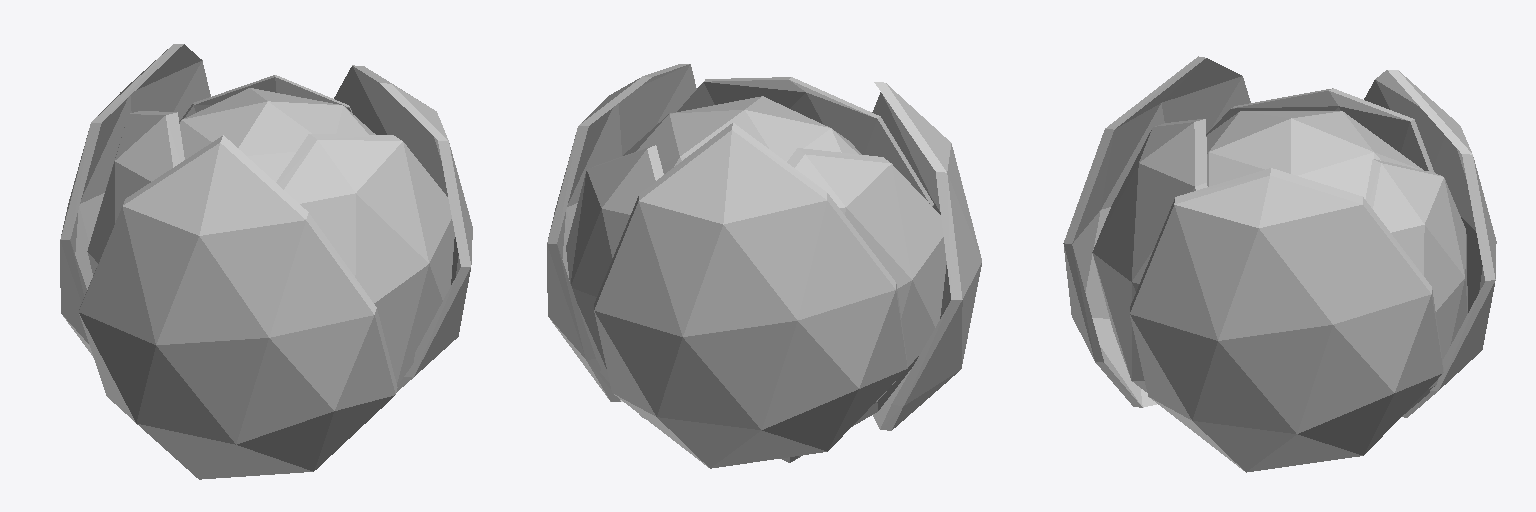
File: cabbageStage3.obj
The picture shows the model from 3 angles: view 1: azimuth 30°, elevation 25°; view 2: azimuth 150°, elevation 25°; view 3: azimuth 270°, elevation 25°; orthographic projection.
Visible parts, largest first — view 1: Cabbage3; view 2: Cabbage3; view 3: Cabbage3.
Boxes of the visible parts, x1,y1,x2,y2 form: Cabbage3: [60, 44, 472, 479]; Cabbage3: [547, 64, 981, 468]; Cabbage3: [1063, 56, 1496, 472].
Size of the model in its own units: 0.5268 by 0.4798 by 0.5311.